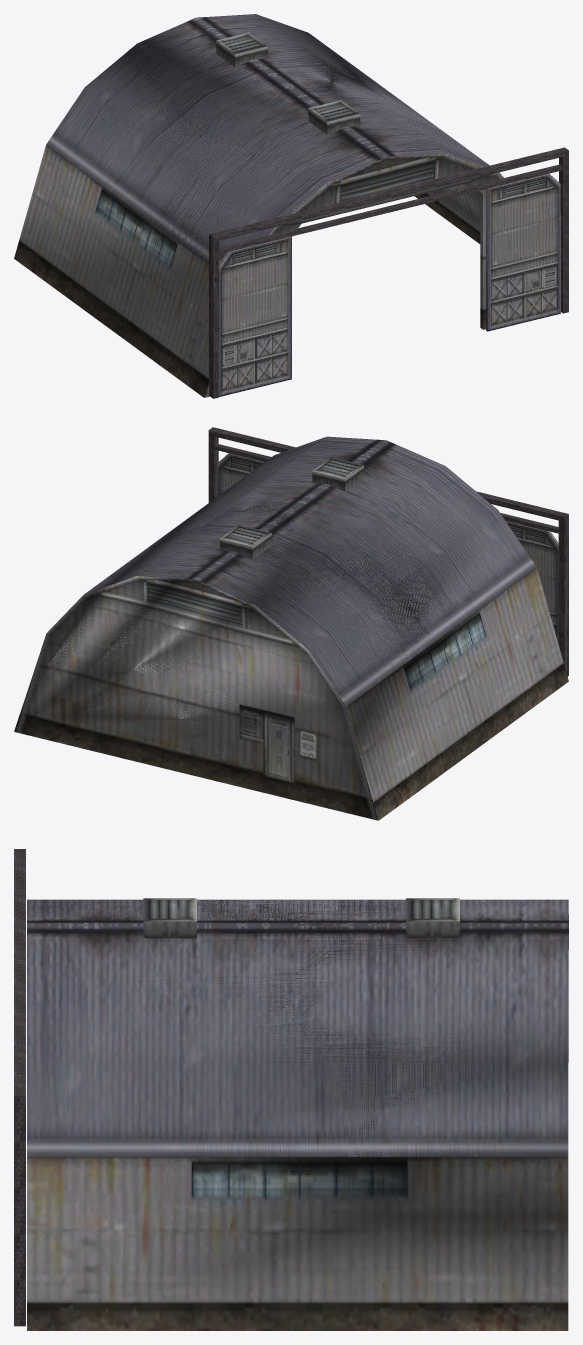
File: MHangar2.glb
The picture shows the model from 3 angles, top to bottom: view 1: azimuth 30°, elevation 25°; view 2: azimuth 150°, elevation 25°; view 3: azimuth 270°, elevation 25°; orthographic projection. The views are drawn at different scales.
Parts seen in each view (by area): view 1: _MHangar2; view 2: _MHangar2; view 3: _MHangar2.
Part boxes in pixels (x1,y1,x2,y2): _MHangar2: (14, 14, 568, 398); _MHangar2: (14, 427, 568, 820); _MHangar2: (14, 849, 568, 1330).
Bounding box in the file's own units: 22.01 × 11.9 × 20.4.
3 materials, 3 textured.
